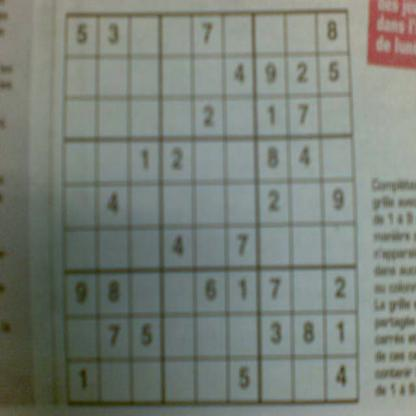sudoku: (57, 5, 365, 413)
